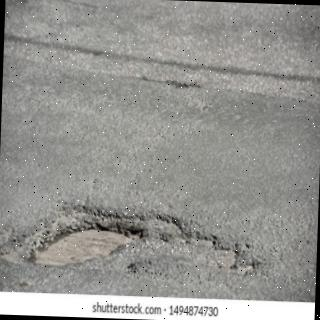pothole: (16, 206, 252, 274)
